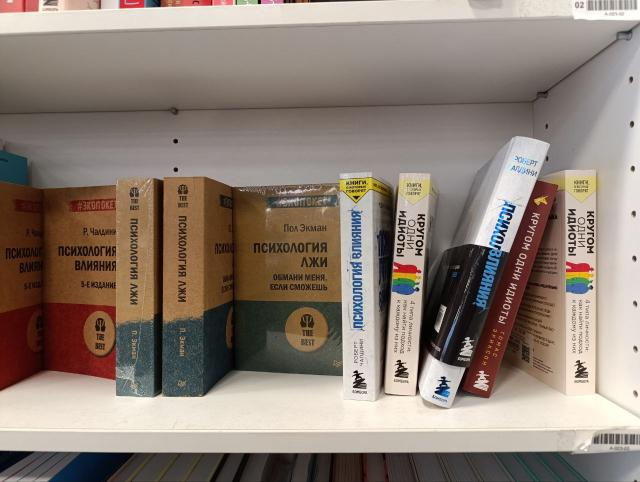book-s-spine: (421, 132, 552, 411), (461, 179, 559, 399), (384, 171, 432, 396), (161, 176, 206, 399), (115, 177, 156, 399), (339, 171, 377, 403), (565, 169, 597, 396)
